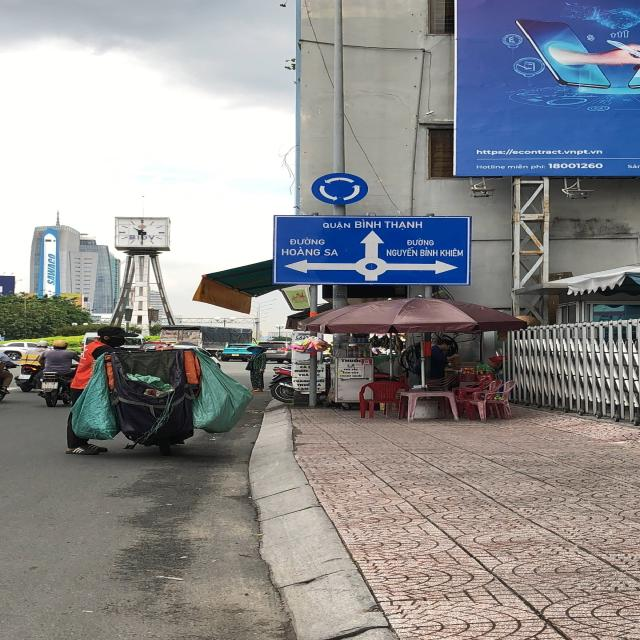Bien bao noi giao nhau chay theo vong xuyen: (308, 170, 375, 209)
